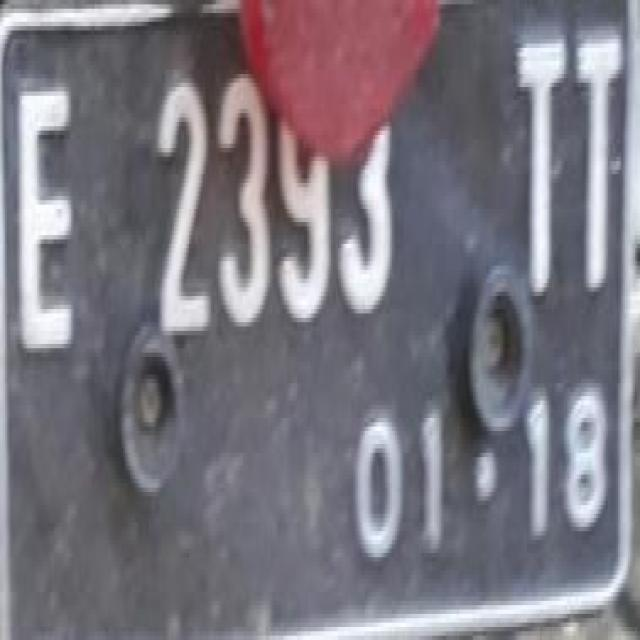2: (142, 59, 218, 372)
3: (340, 54, 403, 326), (218, 59, 272, 355)
9: (271, 56, 341, 325)
E: (6, 70, 90, 378)
T: (506, 15, 572, 320), (570, 20, 622, 276)
